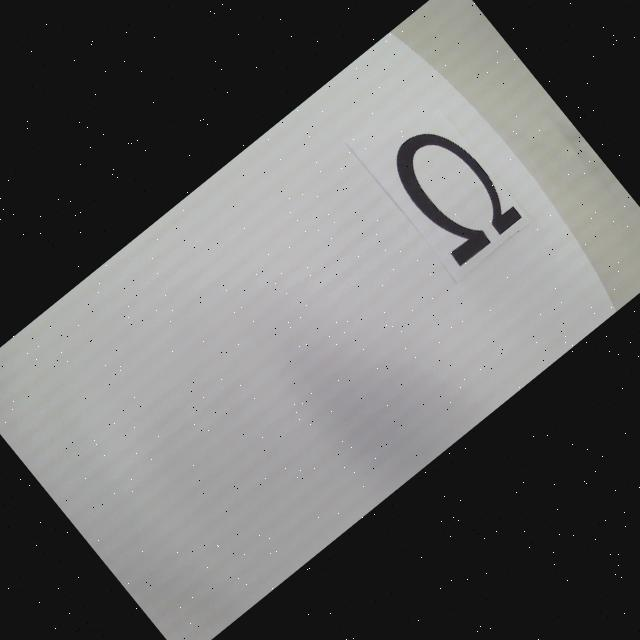OMEGA: (378, 113, 524, 267)
